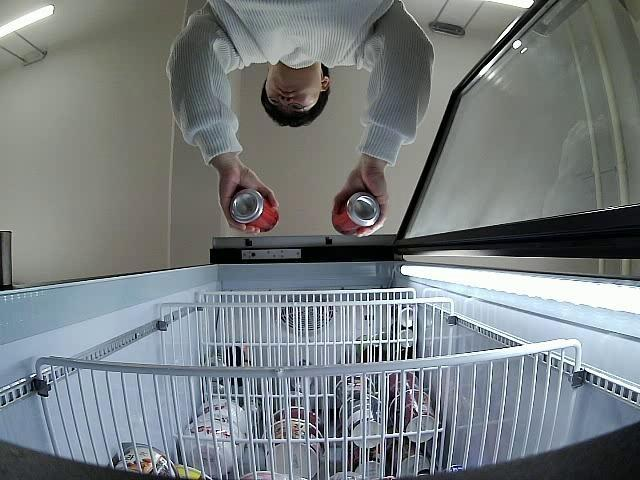11_cocaColaZero: (229, 188, 280, 236), (332, 192, 381, 238)
